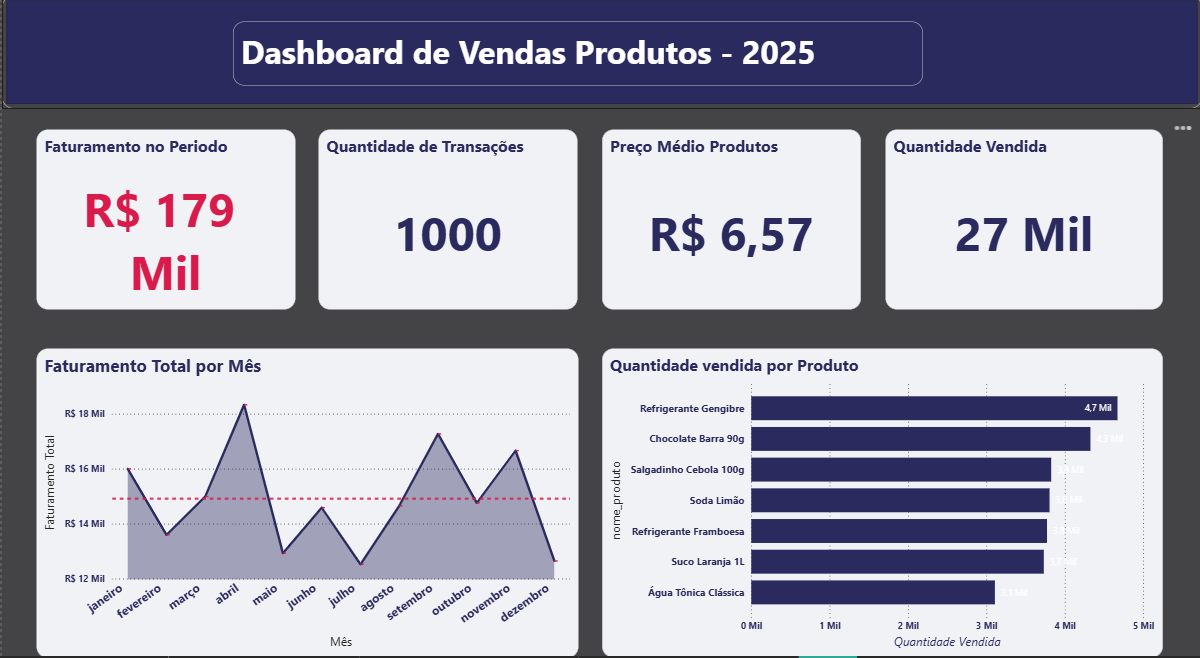

What the dashboard file says about the page in this screenshot:
{"tool":"powerbi","page":{"name":"Panorama Geral","canvas":[1600,900],"ordinal":0},"visuals":[{"type":"card","title":"Quantidade de Transações","fields":{"Values":["_medidas.Nº de Vendas"]},"box":[422.5,177.5,345,240],"z":0},{"type":"card","title":"Preço Médio Produtos","fields":{"Values":["_medidas.Preço Médio por Item"]},"box":[800,177.5,345,240],"z":1000},{"type":"card","title":"Quantidade Vendida","fields":{"Values":["_medidas.Quantidade Vendida"]},"box":[1177.5,177.5,370,240],"z":2000},{"type":"card","title":"Faturamento no Periodo","fields":{"Values":["_medidas.Faturamento Total"]},"box":[45,177.5,345,240],"z":3000},{"type":"lineChart","fields":{"Category":["Dim_Data.Mês"],"Y":["_medidas.Faturamento Total"]},"box":[45,470,722.5,412.5],"z":4000},{"type":"clusteredBarChart","title":"Quantidade vendida por Produto","fields":{"Y":["_medidas.Quantidade Vendida"],"Category":["Dim_produto.nome_produto"]},"box":[800,470,748,412],"z":5000},{"type":"shape","box":[0,0,1600,150],"z":6000,"group":"g1"},{"type":"textbox","box":[308.3,33.3,920,85],"z":7000,"group":"g1"},{"type":"group","id":"g1","title":"Grupo 1","box":[0,0,1600,150],"z":7001}]}

Visuals, with their boxes in screenshot pixels (x1, y1, x2, y2), scaled from the page's 1600x900 canvas onto the 1200x658 screenshot:
"Quantidade de Transações" card: [317,130,576,305]
"Preço Médio Produtos" card: [600,130,859,305]
"Quantidade Vendida" card: [883,130,1161,305]
"Faturamento no Periodo" card: [34,130,292,305]
lineChart - Dim_Data.Mês x _medidas.Faturamento Total: [34,344,576,645]
"Quantidade vendida por Produto" clusteredBarChart: [600,344,1161,645]
shape: [0,0,1199,110]
textbox: [231,24,921,86]
"Grupo 1" group: [0,0,1199,110]
